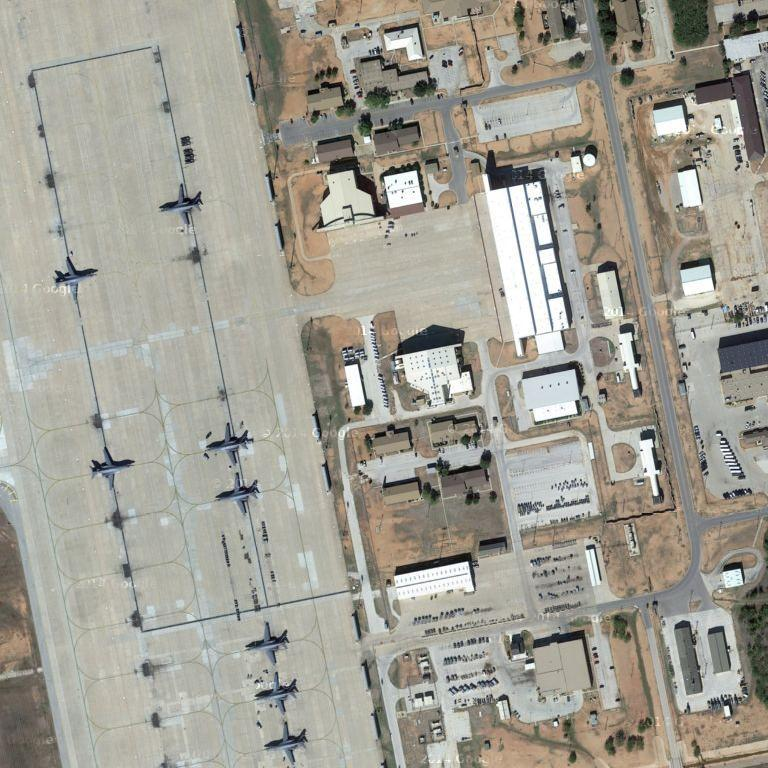B-1B: (154, 181, 209, 228), (200, 421, 255, 466), (83, 445, 139, 489), (209, 468, 262, 514), (260, 722, 311, 767), (241, 621, 294, 663), (48, 256, 100, 298), (250, 672, 303, 713)
